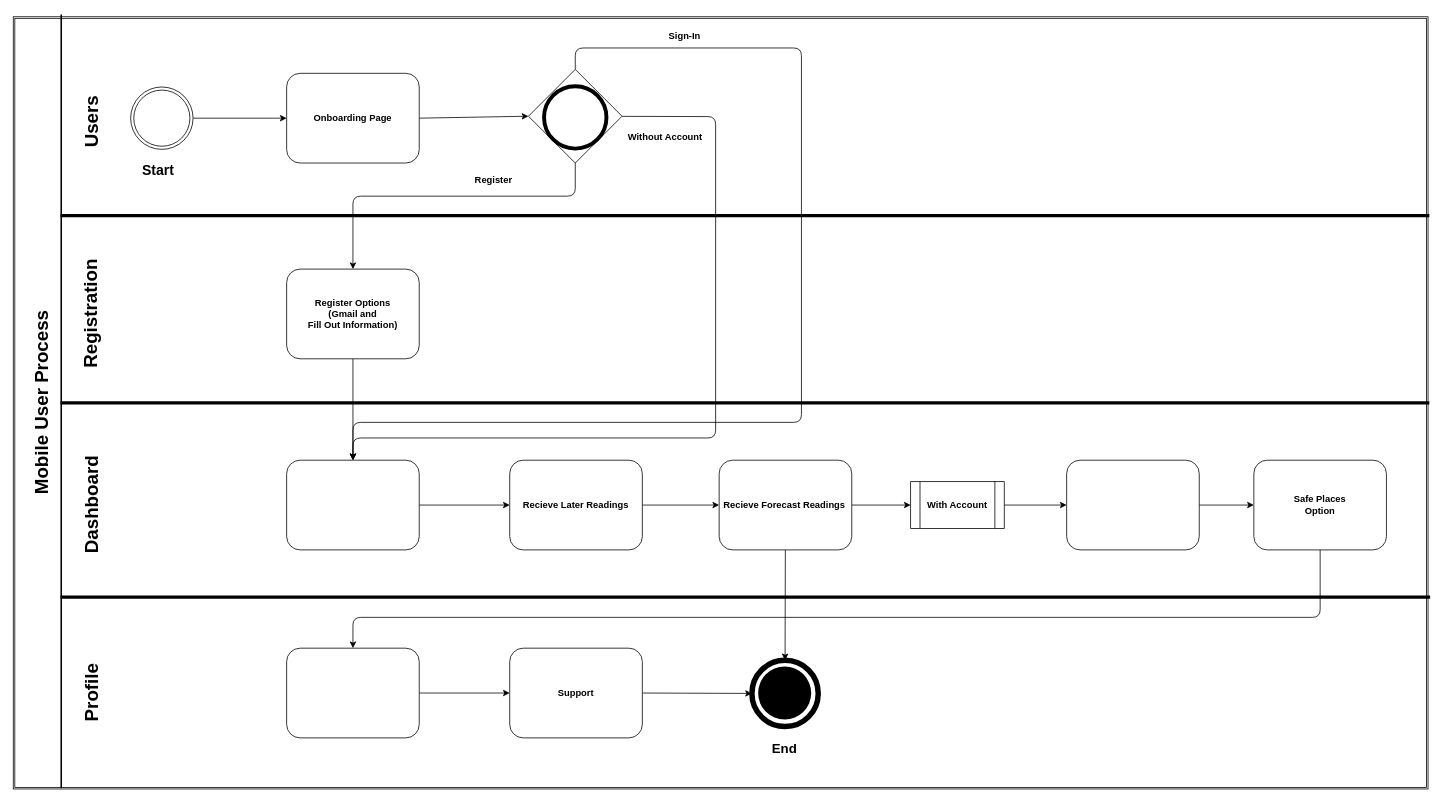
The diagram is 1445 pixels wide and 803 high, and some of its shapes have lost their labels. Each missing label, with the centre of its shape:
Change Password: point (352, 692)
Notify BDRRMC Option: point (1132, 504)
Recieve Current Readings: point (352, 504)
